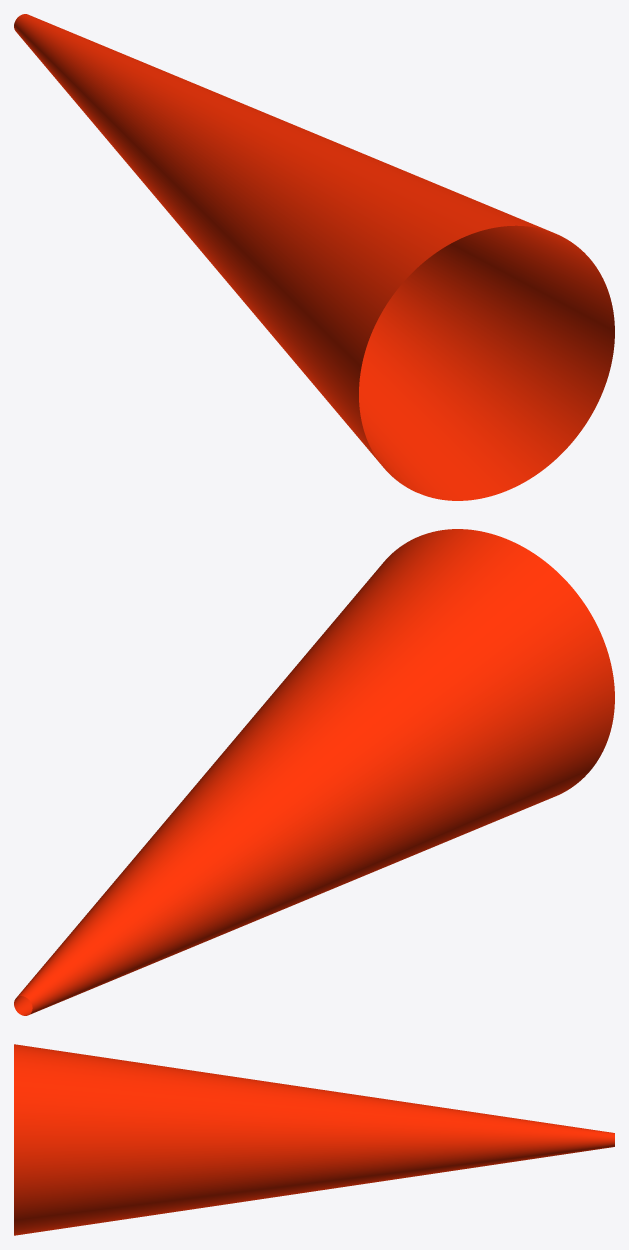
The model's file is M_VFX_Thruster_Cone_2.fbx.
3 views of the same model, one above another, from view 1: azimuth 30°, elevation 25°; view 2: azimuth 150°, elevation 25°; view 3: azimuth 270°, elevation 25° (orthographic). The views are drawn at different scales.
Visible parts, largest first — view 1: Object001; view 2: Object001; view 3: Object001.
Part boxes in pixels (x1,y1,x2,y2): Object001: (14, 14, 614, 500); Object001: (14, 529, 614, 1015); Object001: (14, 1044, 614, 1235).
Size of the model in its own units: 83.34 by 83.34 by 261.
